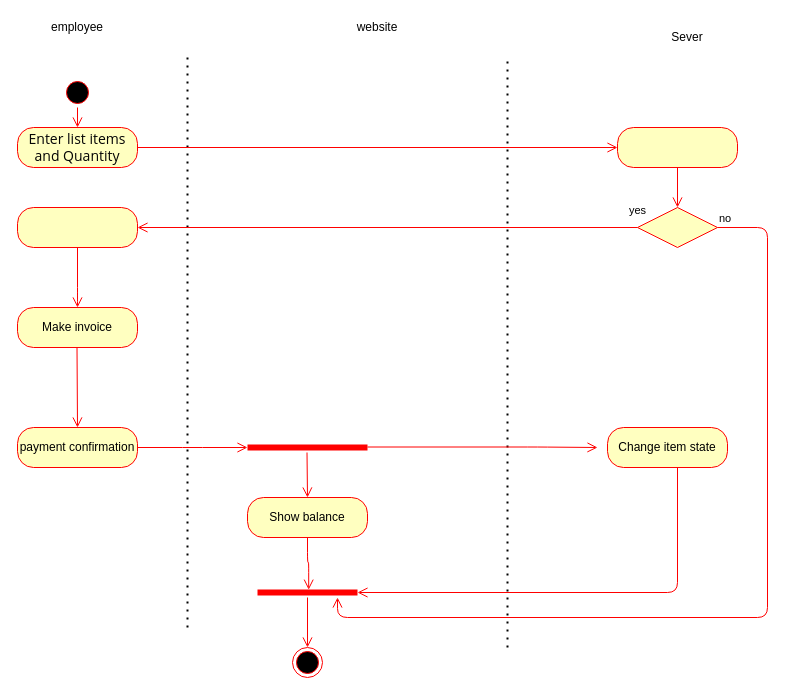
The diagram is 795 pixels wide and 695 high, and some of its shapes have lost their labels. The centre of each missing label's shape, as x and y in pixels:
Check exist: (677,147)
Enter customer infor: (77,227)
